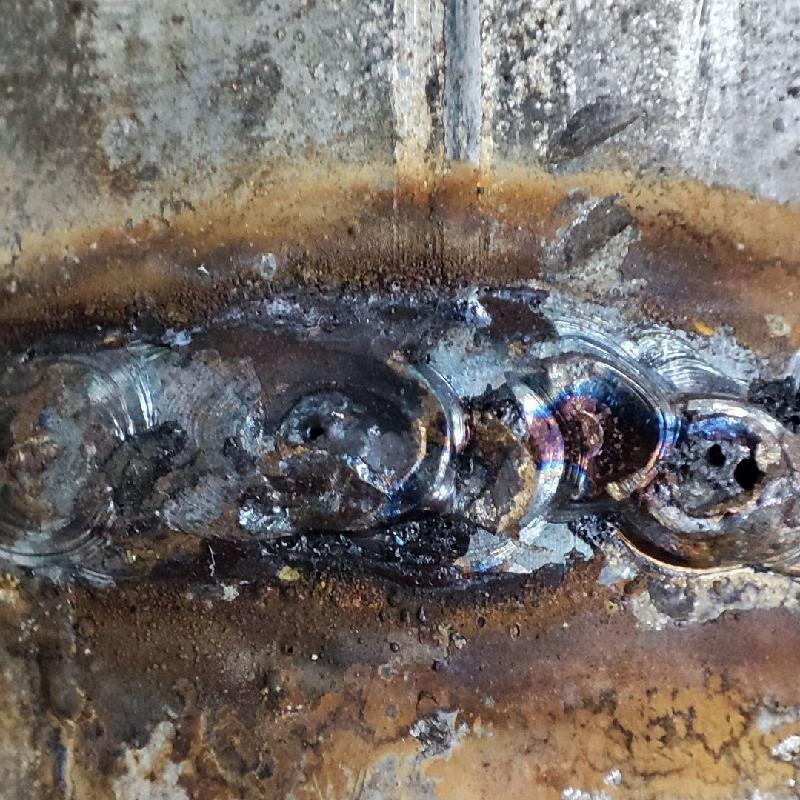Surface_pores: (698, 418, 768, 501), (279, 398, 338, 452)
crater: (319, 303, 798, 565)
wrong_size: (2, 327, 316, 551)
